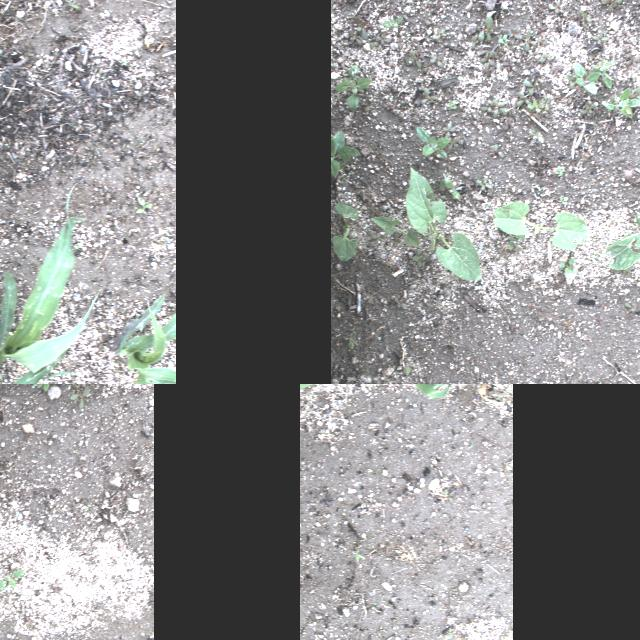crop: (0, 180, 101, 372), (0, 202, 76, 384), (404, 168, 480, 280), (114, 291, 176, 384), (493, 202, 589, 250), (604, 202, 640, 271), (371, 216, 422, 248), (332, 201, 358, 261)
weed: (333, 64, 372, 114), (331, 130, 363, 178), (601, 86, 640, 118), (416, 126, 450, 160), (572, 61, 602, 95), (399, 334, 417, 376), (592, 59, 614, 89), (0, 569, 25, 591), (483, 386, 513, 404), (443, 178, 465, 202), (430, 176, 448, 204), (500, 24, 522, 46), (518, 28, 538, 52), (70, 387, 90, 411), (478, 16, 494, 44), (574, 8, 592, 32), (352, 15, 368, 40), (410, 250, 430, 268), (558, 258, 580, 274), (527, 98, 547, 115), (404, 50, 422, 68), (474, 176, 494, 192), (491, 98, 507, 118), (420, 86, 436, 105), (342, 331, 358, 349), (514, 90, 530, 108), (566, 72, 582, 90), (429, 52, 445, 70), (442, 120, 456, 140), (382, 18, 402, 32), (136, 198, 152, 215), (542, 94, 554, 116), (368, 206, 384, 222), (489, 143, 505, 159), (523, 80, 539, 96), (592, 32, 610, 46), (627, 85, 640, 104), (28, 384, 63, 391), (601, 0, 623, 11), (548, 1, 564, 16), (368, 230, 382, 246), (444, 136, 458, 152), (480, 50, 494, 66), (348, 29, 362, 45), (413, 42, 425, 60), (480, 99, 494, 113), (530, 130, 544, 144), (433, 28, 447, 42), (376, 31, 390, 45), (384, 80, 398, 94), (352, 548, 366, 562), (482, 62, 494, 78), (67, 0, 81, 13), (625, 55, 640, 67), (580, 104, 596, 115), (621, 266, 633, 280), (505, 318, 517, 332), (392, 297, 406, 309), (620, 28, 632, 42), (550, 64, 564, 76), (503, 58, 515, 72), (470, 34, 480, 50), (422, 59, 433, 72), (624, 301, 638, 311), (390, 234, 400, 248), (504, 116, 514, 130), (622, 46, 632, 60), (552, 166, 564, 177), (497, 34, 508, 46), (443, 491, 453, 504), (423, 12, 432, 26), (410, 108, 420, 120), (540, 53, 552, 63), (623, 229, 633, 239), (574, 265, 584, 275), (447, 100, 457, 110), (370, 42, 380, 52), (557, 196, 569, 204), (535, 37, 547, 45), (508, 236, 514, 252), (627, 312, 635, 320), (74, 244, 84, 250), (429, 176, 435, 186), (389, 5, 396, 13), (85, 504, 92, 511), (485, 202, 491, 210), (536, 187, 542, 195), (347, 170, 355, 176), (370, 601, 376, 609), (346, 0, 357, 4), (575, 345, 581, 351), (14, 594, 20, 600), (578, 372, 582, 378), (595, 231, 599, 237), (406, 270, 410, 276), (450, 628, 452, 640), (596, 252, 598, 258)
